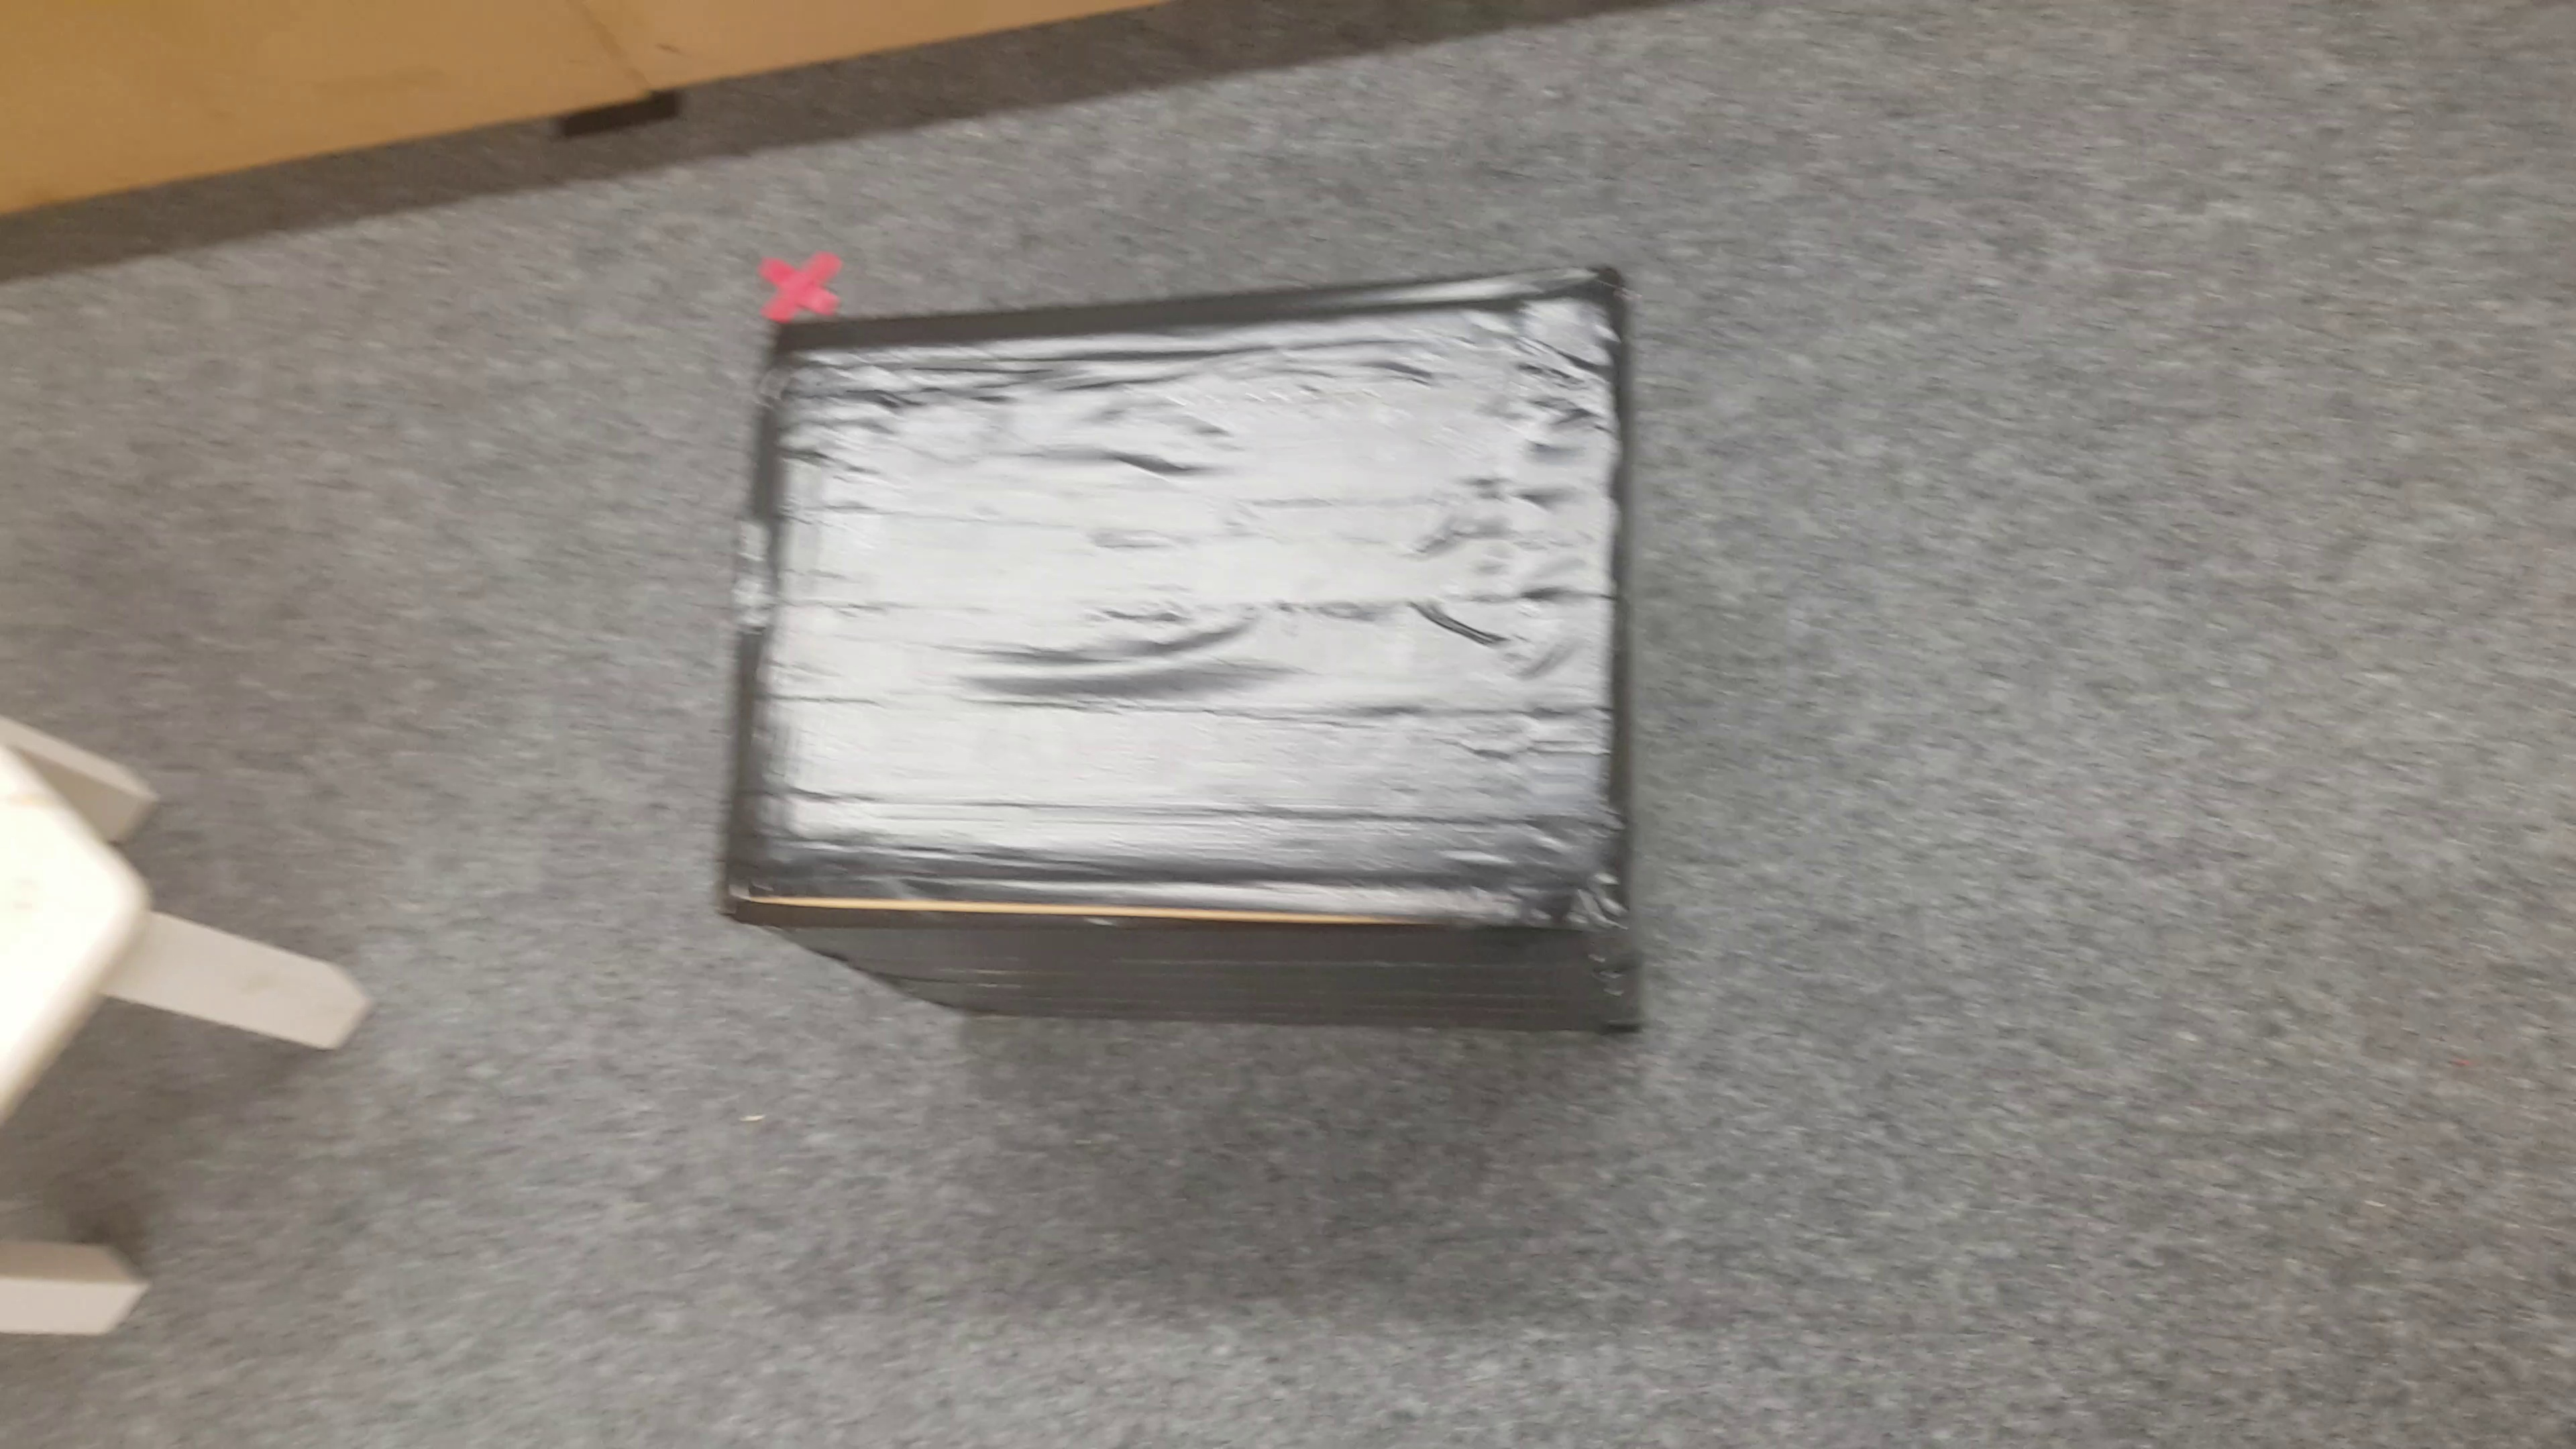push: (715, 320, 1638, 1046)
